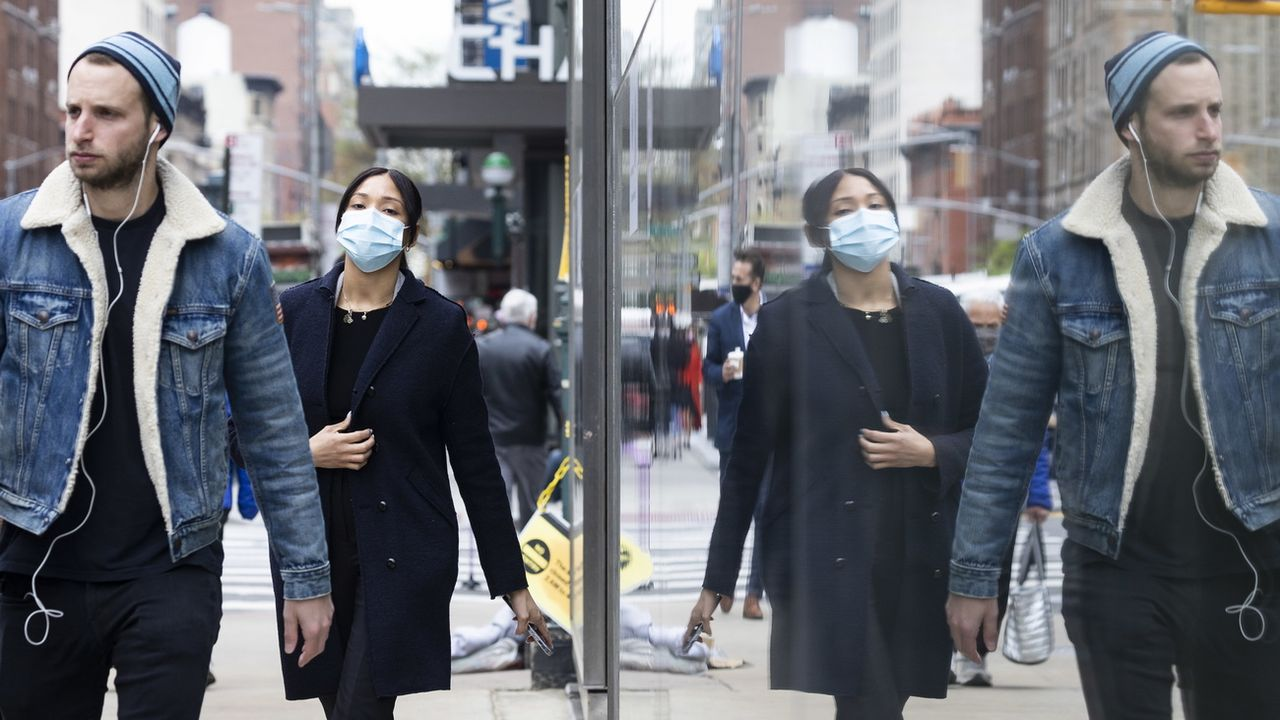with_mask: (823, 178, 900, 260), (341, 184, 410, 271), (725, 255, 759, 311)
without_mask: (1140, 76, 1232, 180), (61, 70, 141, 180)
